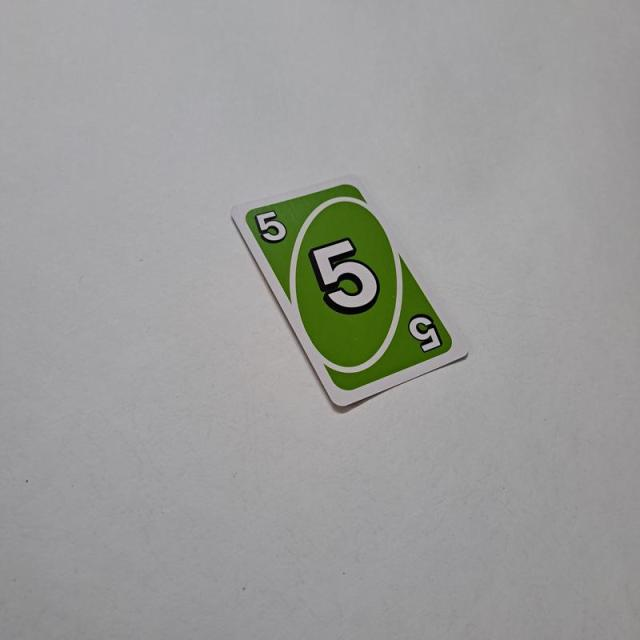Green_Card: (244, 182, 457, 397)
Number_5: (253, 206, 290, 246)
